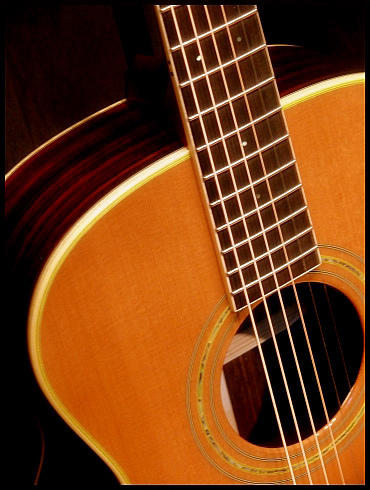guitar: (1, 1, 367, 481)
